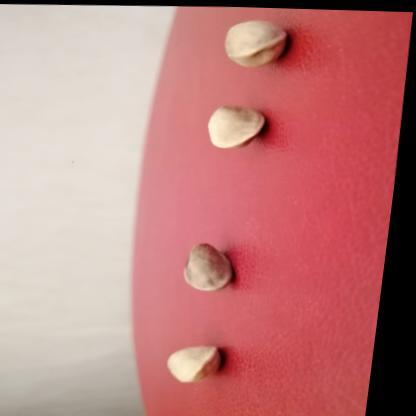pistachio: (221, 15, 291, 72), (165, 335, 230, 394), (207, 97, 269, 151), (184, 237, 233, 297)
